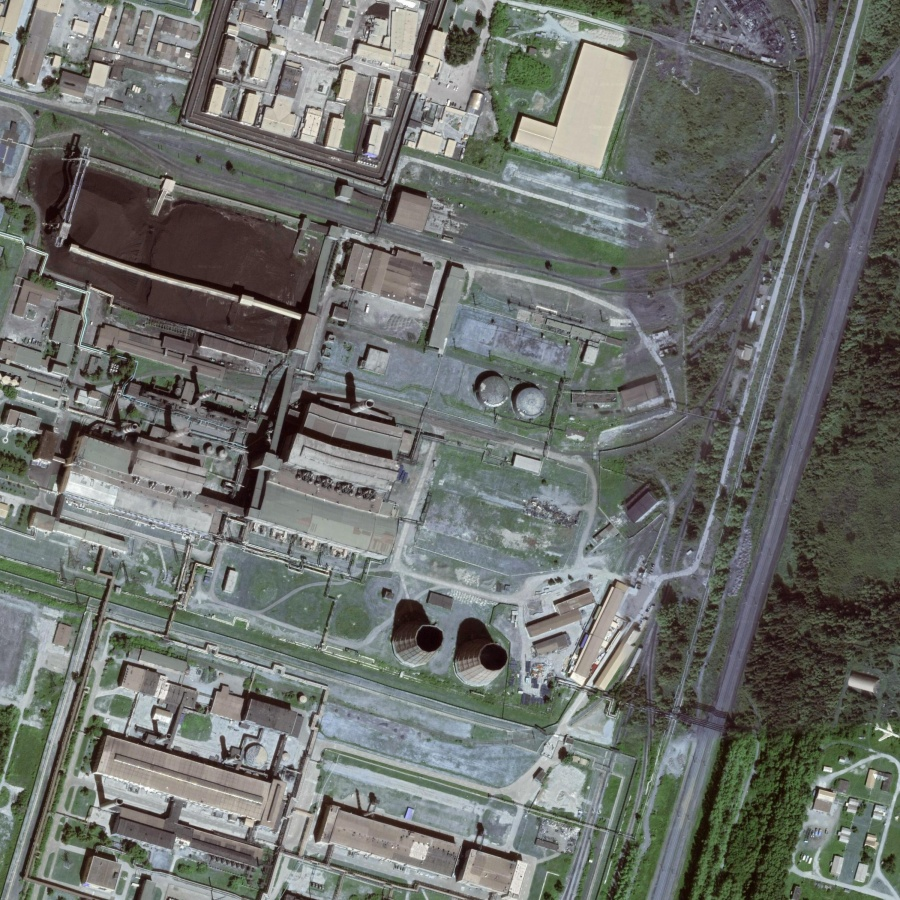PowerPlant: (10, 130, 568, 699)
